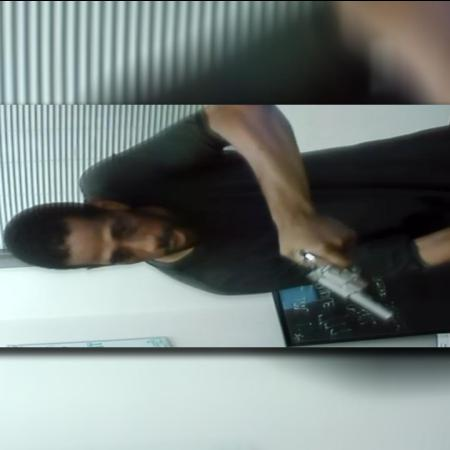Pistol: (290, 242, 397, 319)
